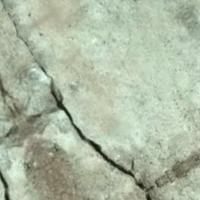crack: (13, 22, 199, 199)
